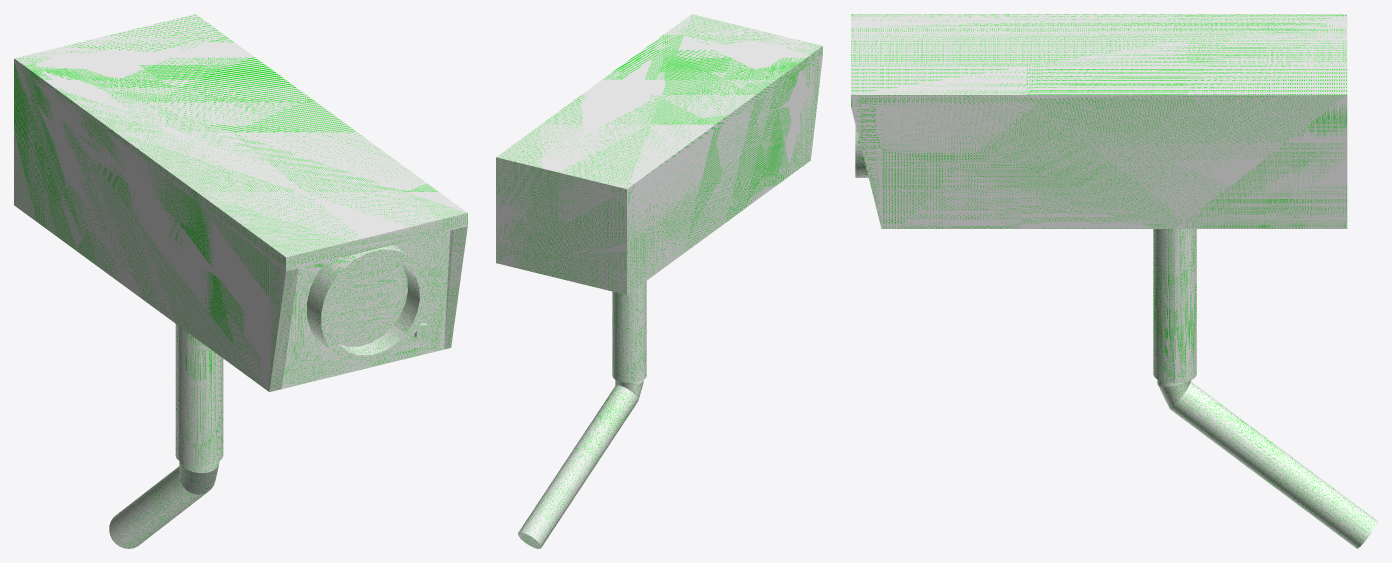
Rendered from camera.dae.
3 renders of one model, left to right at view 1: azimuth 30°, elevation 25°; view 2: azimuth 150°, elevation 25°; view 3: azimuth 270°, elevation 25°, orthographic. The views are drawn at different scales.
Visible parts, largest first — view 1: group_0 (×4); view 2: group_0 (×2); view 3: group_0 (×2).
Boxes of the visible parts, left/top/right/bottom form: group_0 (×4): left=14, top=14, right=467, bottom=548; group_0 (×2): left=496, top=14, right=822, bottom=548; group_0 (×2): left=851, top=14, right=1377, bottom=548.
Size of the model in its own units: 17.32 by 47.64 by 47.73.
